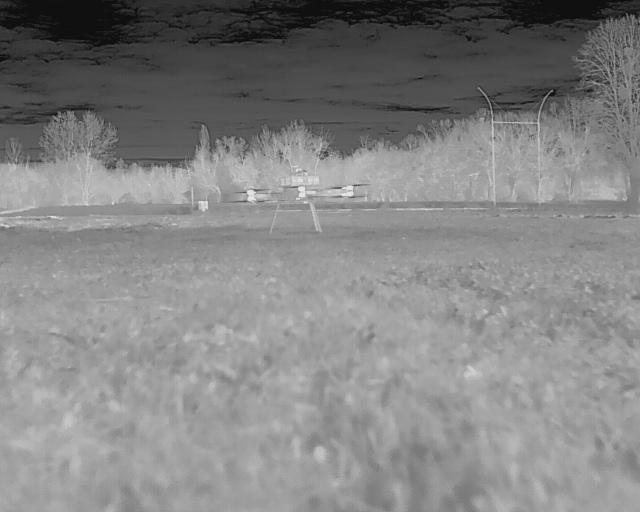drone: (218, 166, 374, 238)
